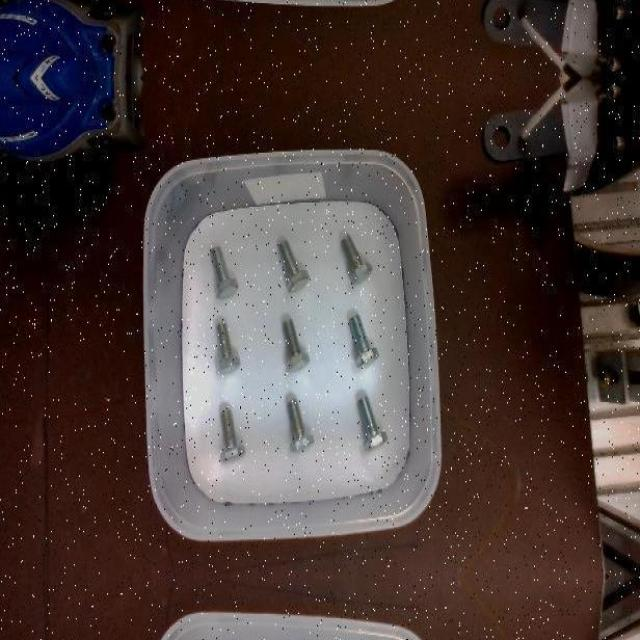screw: (358, 395, 388, 451), (278, 241, 310, 293), (350, 313, 379, 367), (342, 235, 373, 283), (210, 245, 238, 298), (217, 409, 245, 462), (282, 319, 310, 371), (213, 322, 240, 375), (287, 399, 314, 450)
